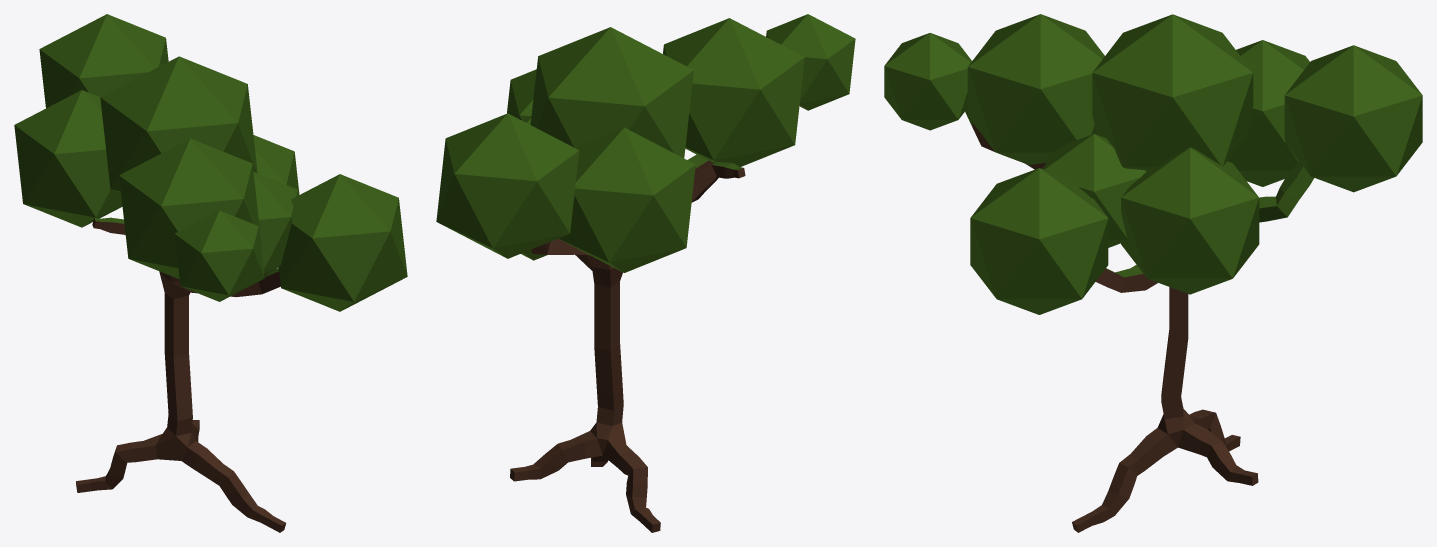
File: treevariant_1.fbx
3 renders of one model, left to right at view 1: azimuth 30°, elevation 25°; view 2: azimuth 150°, elevation 25°; view 3: azimuth 270°, elevation 25°, orthographic. The views are drawn at different scales.
Parts seen in each view (by area): view 1: Plane; view 2: Plane; view 3: Plane.
Part boxes in pixels (<box>): Plane: <box>14,14,407,532</box>; Plane: <box>436,14,855,532</box>; Plane: <box>884,14,1422,532</box>.
Size of the model in its own units: 218 by 351 by 351.
Materials: 1 (1 with a texture image).
